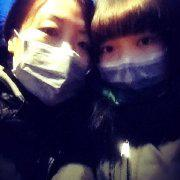OK: (12, 15, 95, 104), (99, 31, 168, 97)
